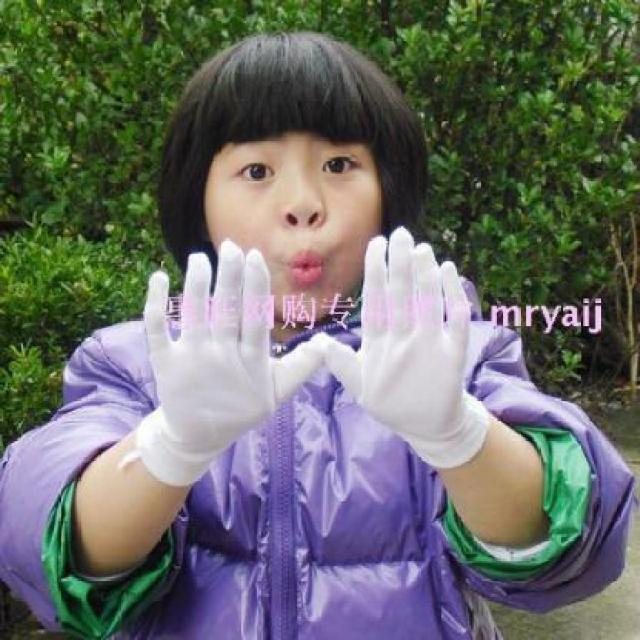face_nomask: (210, 117, 398, 317)
hand_glove: (145, 240, 323, 468), (334, 238, 480, 450)
person: (8, 32, 637, 640)
